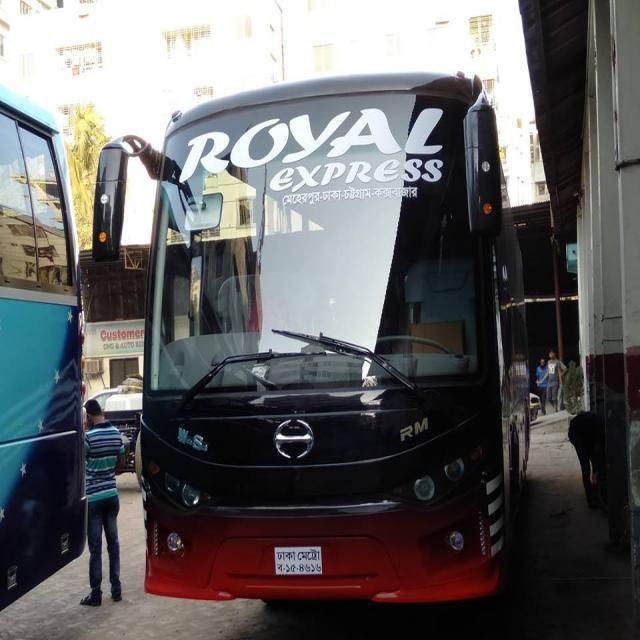bus: (93, 73, 531, 599)
